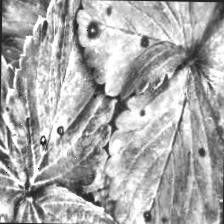Leaf Spot: (0, 0, 119, 196), (102, 59, 224, 224), (73, 0, 218, 102), (192, 8, 224, 217), (0, 25, 32, 222), (0, 182, 145, 224)
